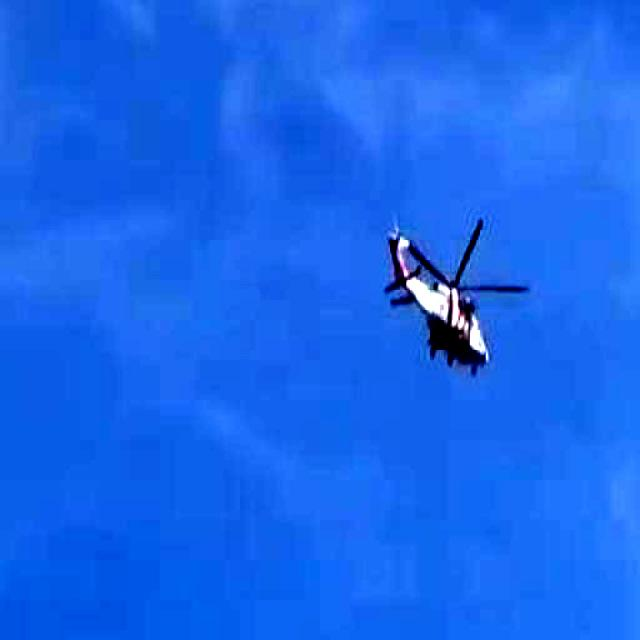drone: (360, 198, 542, 401)
